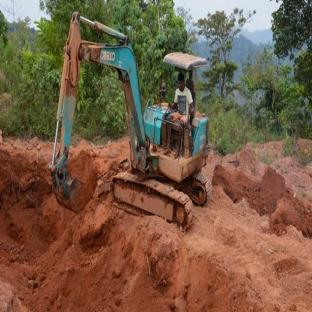ExcavationMachinery: (48, 13, 213, 234)
